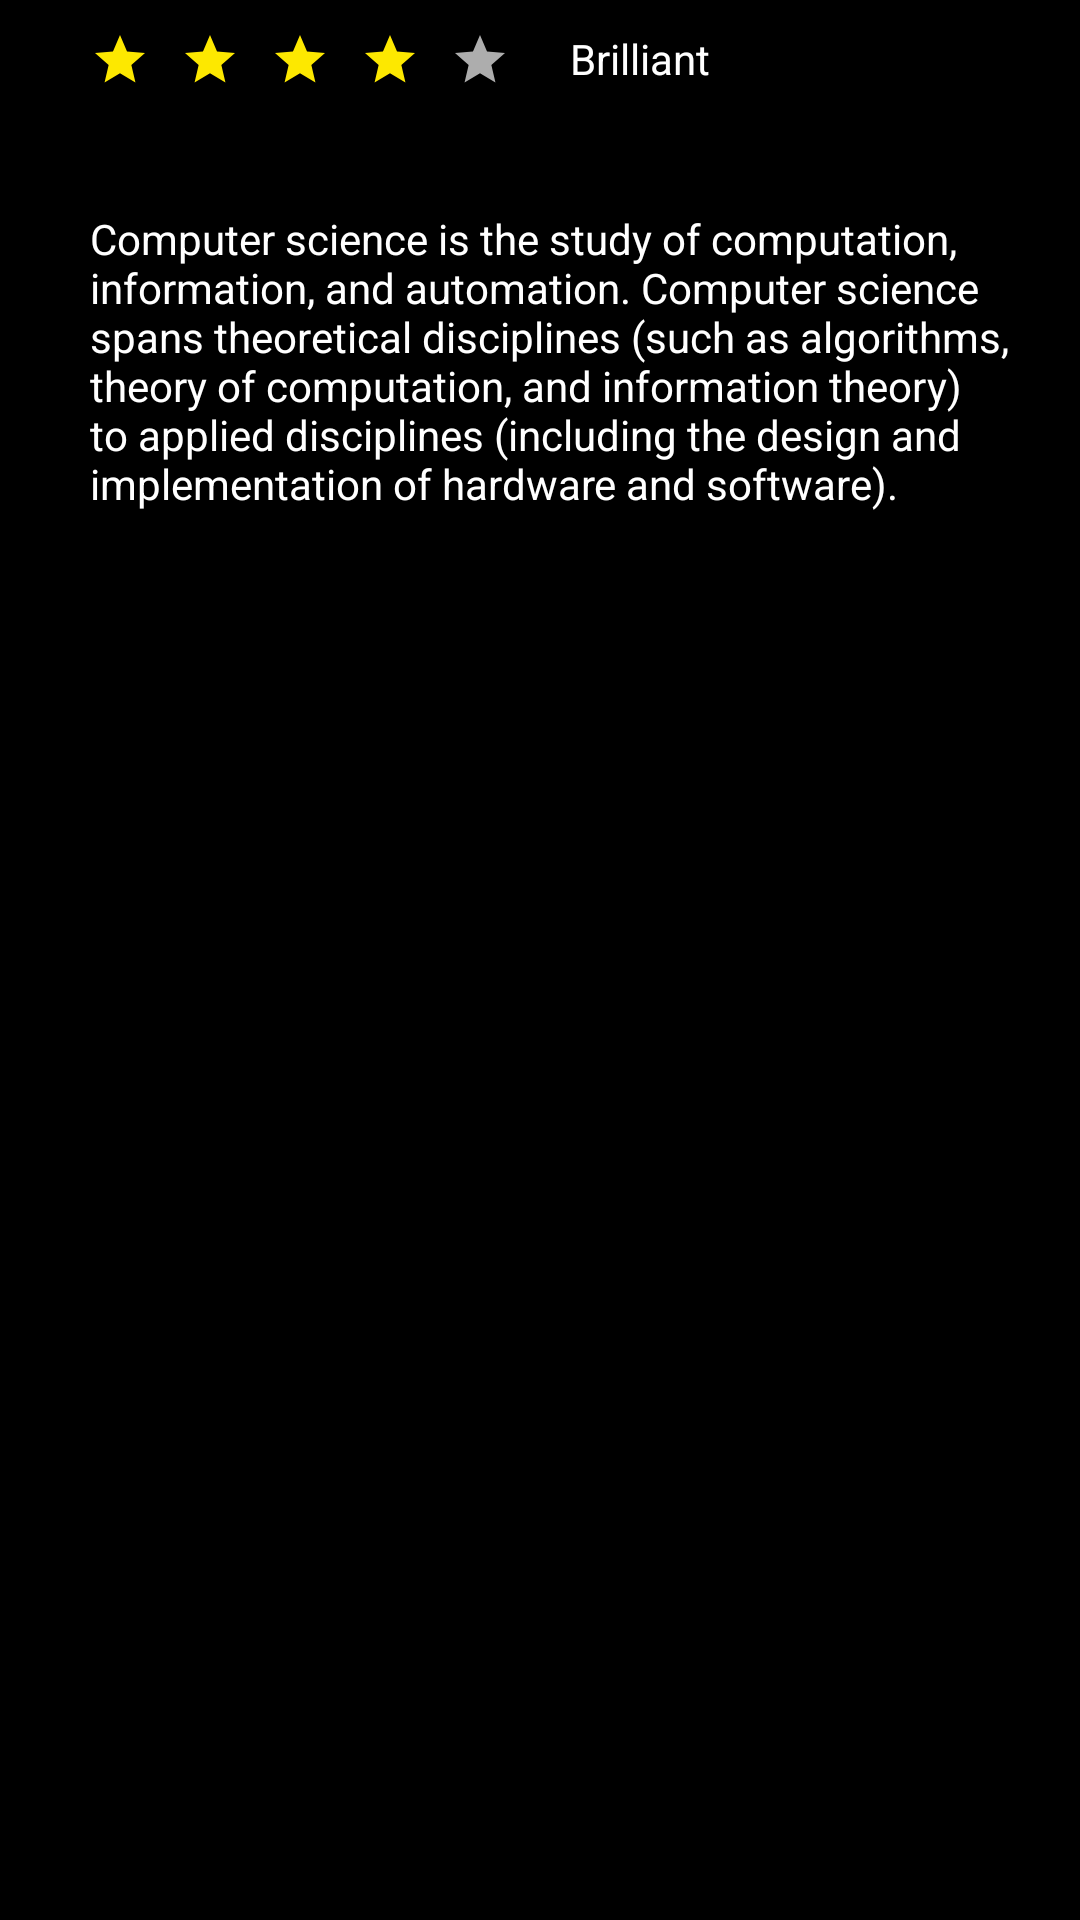

Point at icon controls on the screen. Image size 1080px x 1920px, points as point (x, y).
star: point (120, 59), point (210, 59), point (300, 59), point (390, 59), point (480, 59)
